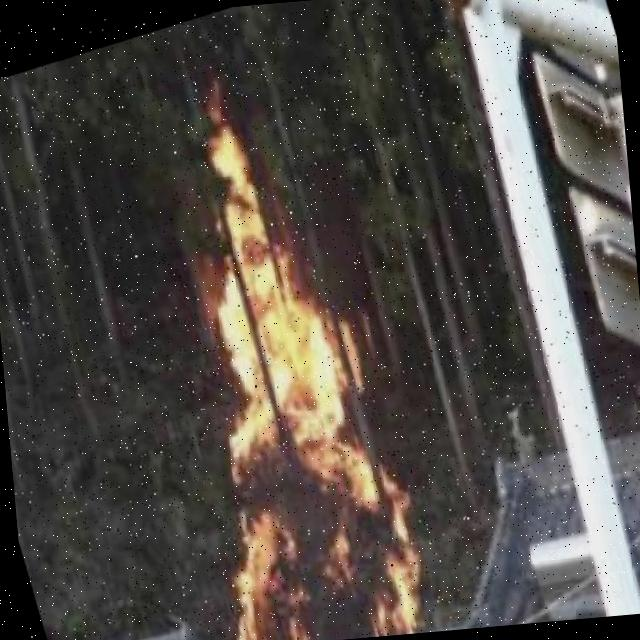fire: (173, 74, 437, 640)
